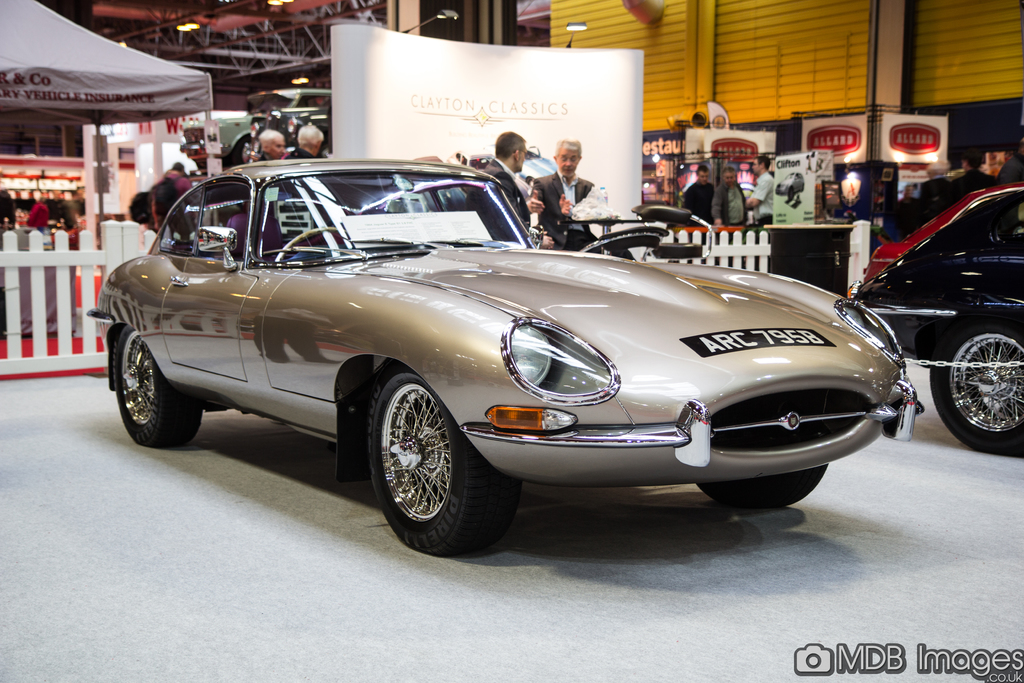Person: (0, 125, 1024, 363)
